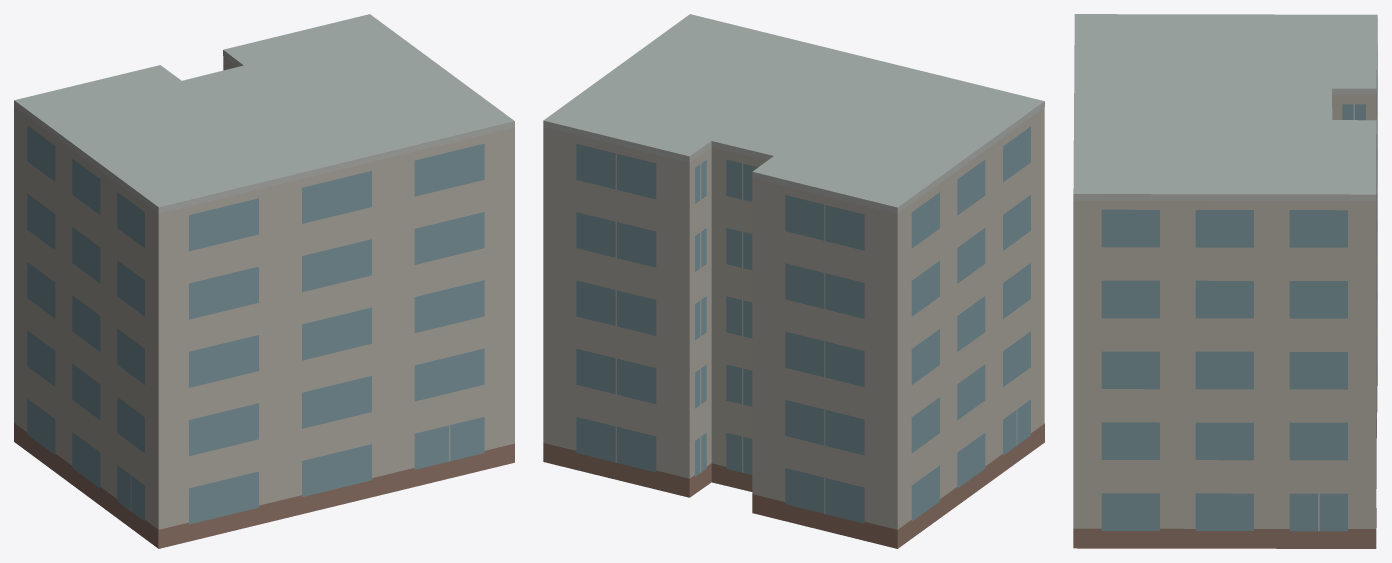
Rendered from survey-upis-32835182.glb.
3 renders of one model, left to right at view 1: azimuth 30°, elevation 25°; view 2: azimuth 150°, elevation 25°; view 3: azimuth 270°, elevation 25°, orthographic. The views are drawn at different scales.
Parts seen in each view (by area): view 1: survey-upis-32835182.tmp; view 2: survey-upis-32835182.tmp; view 3: survey-upis-32835182.tmp.
Part boxes in pixels (x1,y1,x2,y2): survey-upis-32835182.tmp: (14, 14, 514, 548); survey-upis-32835182.tmp: (543, 14, 1044, 548); survey-upis-32835182.tmp: (1073, 14, 1377, 548).
Size of the model in its own units: 14.32 by 13.1 by 10.2.
